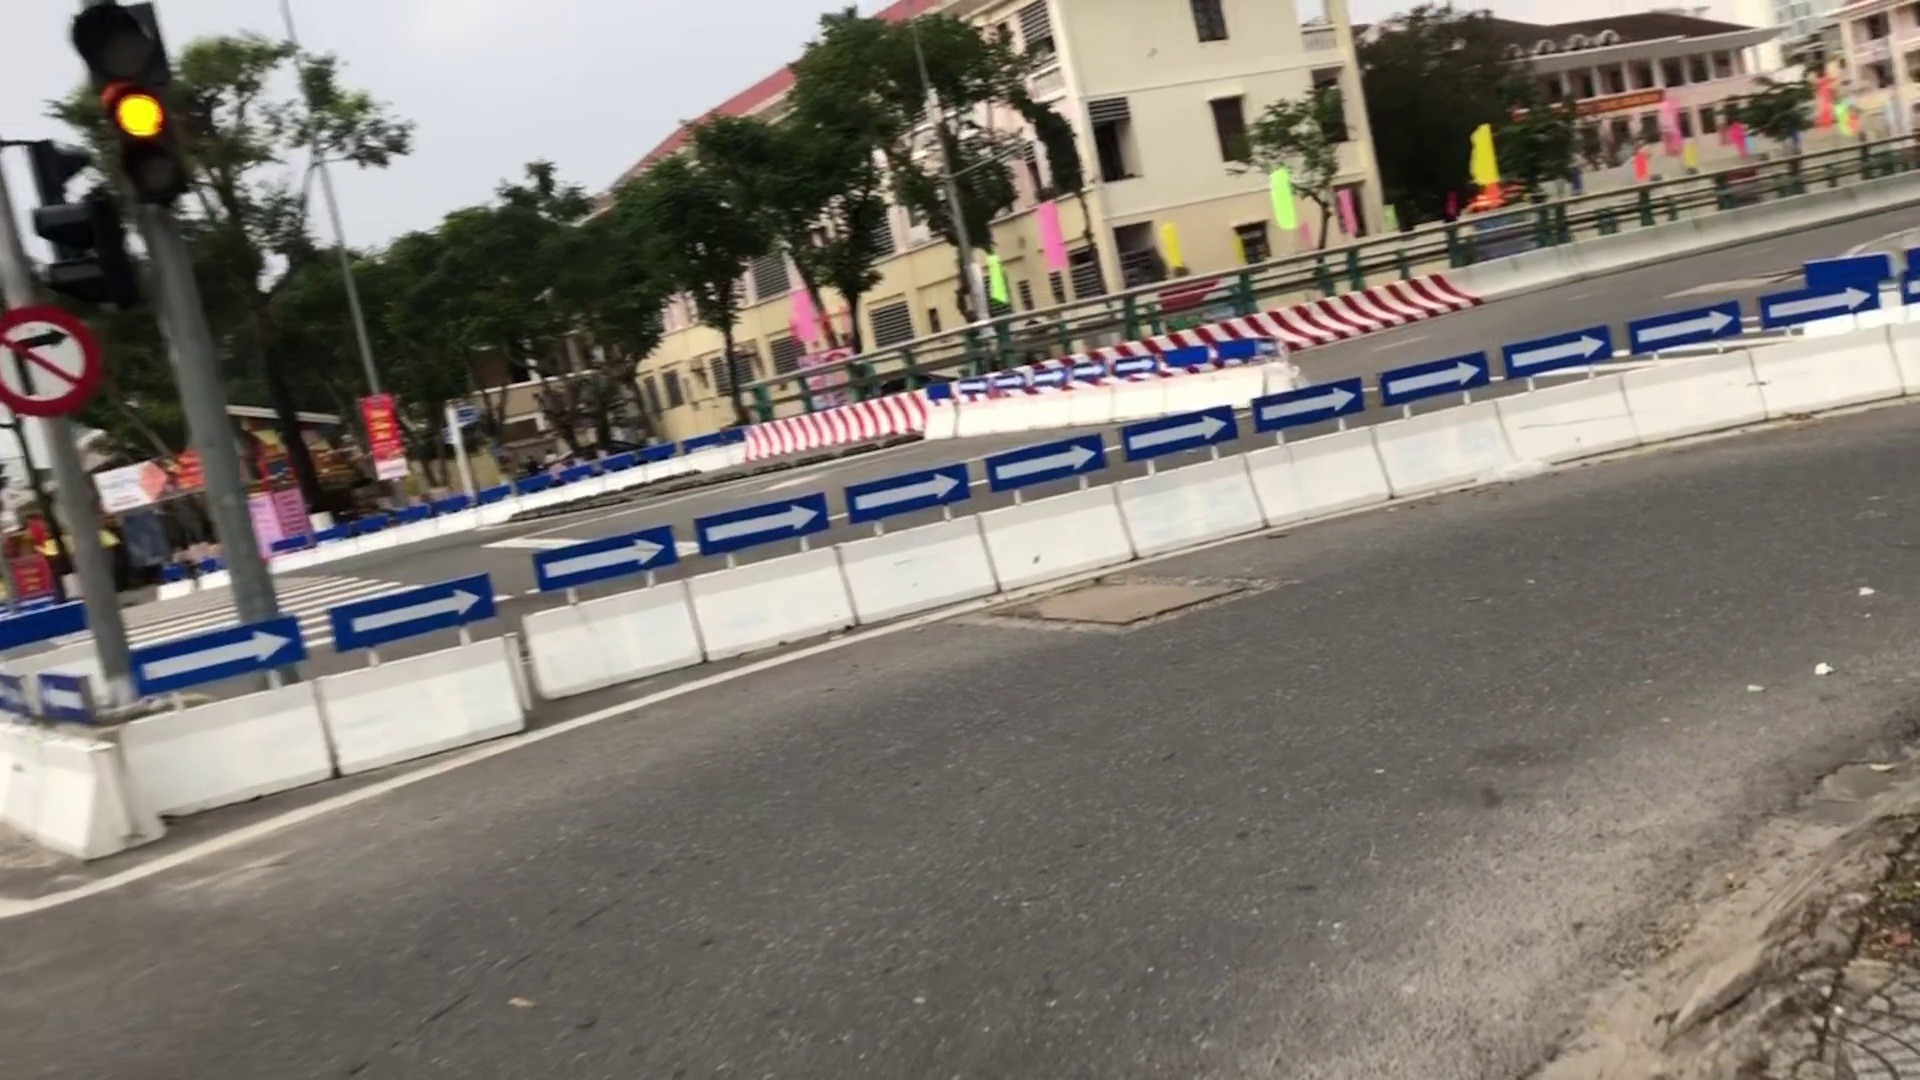Bien khac: (1, 309, 99, 411)
